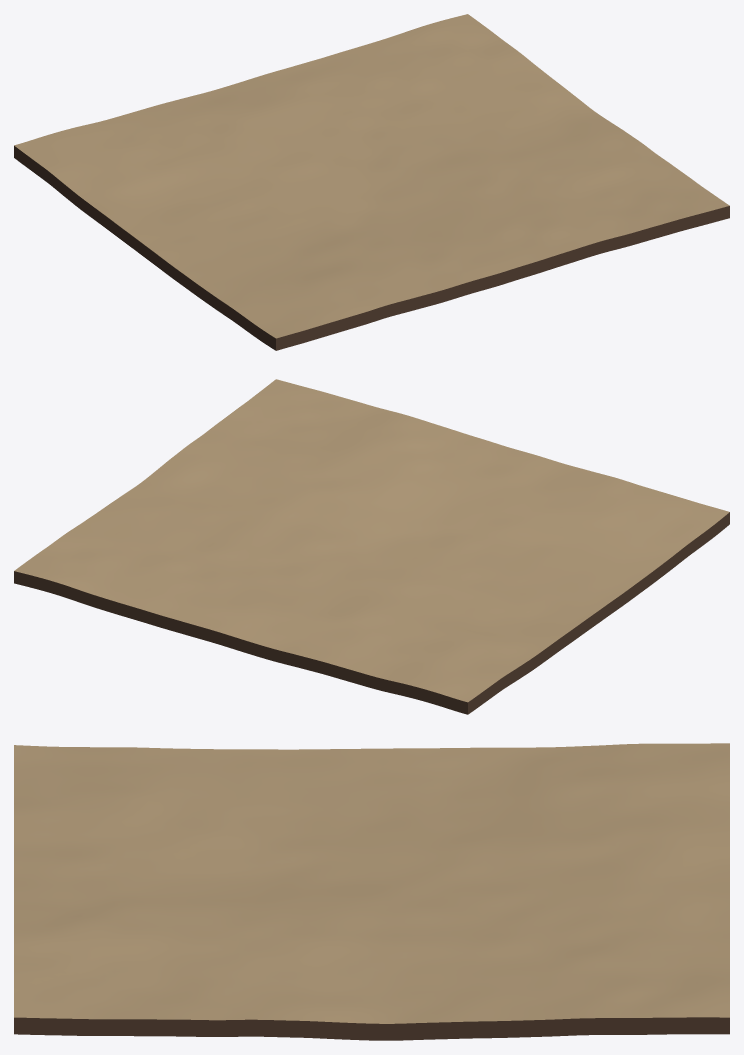
The model's file is Terrain_04_02.fbx.
3 views of the same model, one above another, from view 1: azimuth 30°, elevation 25°; view 2: azimuth 150°, elevation 25°; view 3: azimuth 270°, elevation 25° (orthographic). The views are drawn at different scales.
Parts seen in each view (by area): view 1: Terrain_04_02_LOD0; view 2: Terrain_04_02_LOD0; view 3: Terrain_04_02_LOD0.
Boxes of the visible parts, <box> form: Terrain_04_02_LOD0: <box>14,14,729,350</box>; Terrain_04_02_LOD0: <box>14,379,729,714</box>; Terrain_04_02_LOD0: <box>14,743,729,1040</box>.
Size of what is drawn, in the model's own units: 384 by 30.51 by 384.
